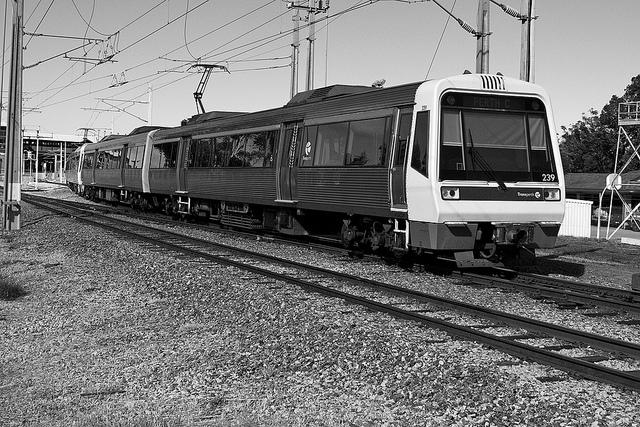Train: (59, 75, 564, 265)
